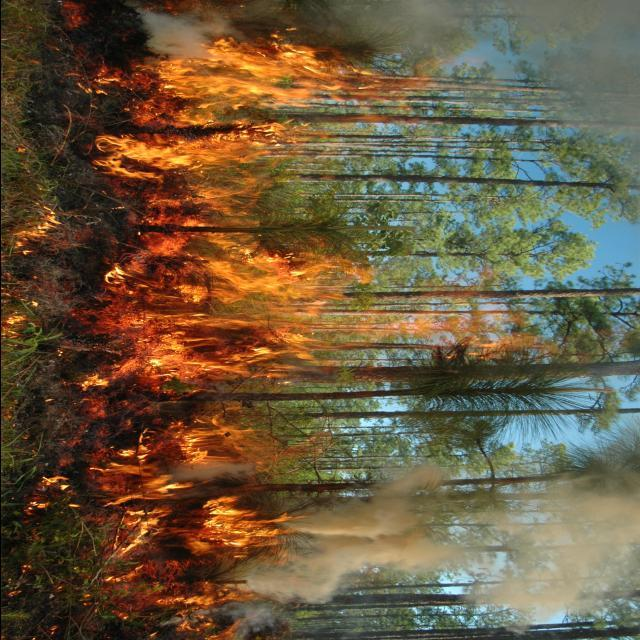Fire: (88, 42, 386, 634)
